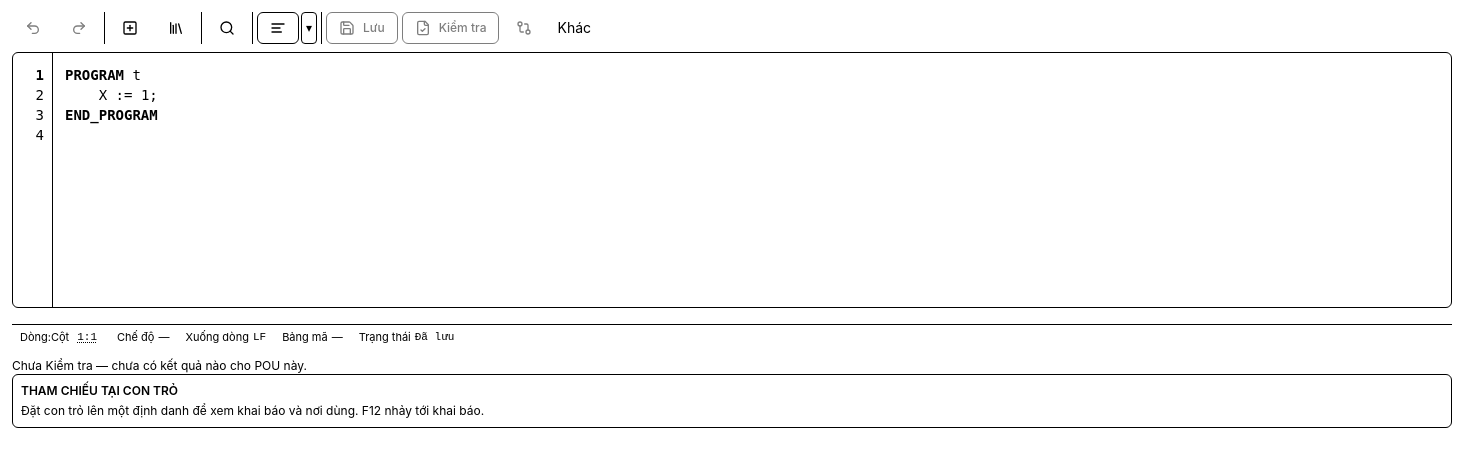
DEV-PROG-019 — nút Định dạng trong trình soạn thảo › nguồn đã đúng style ⇒ nói "đã đúng định dạng", không báo lỗi
Click the button named "Định dạng" at {"x": 278, "y": 28}, box 257,12 -> 299,44
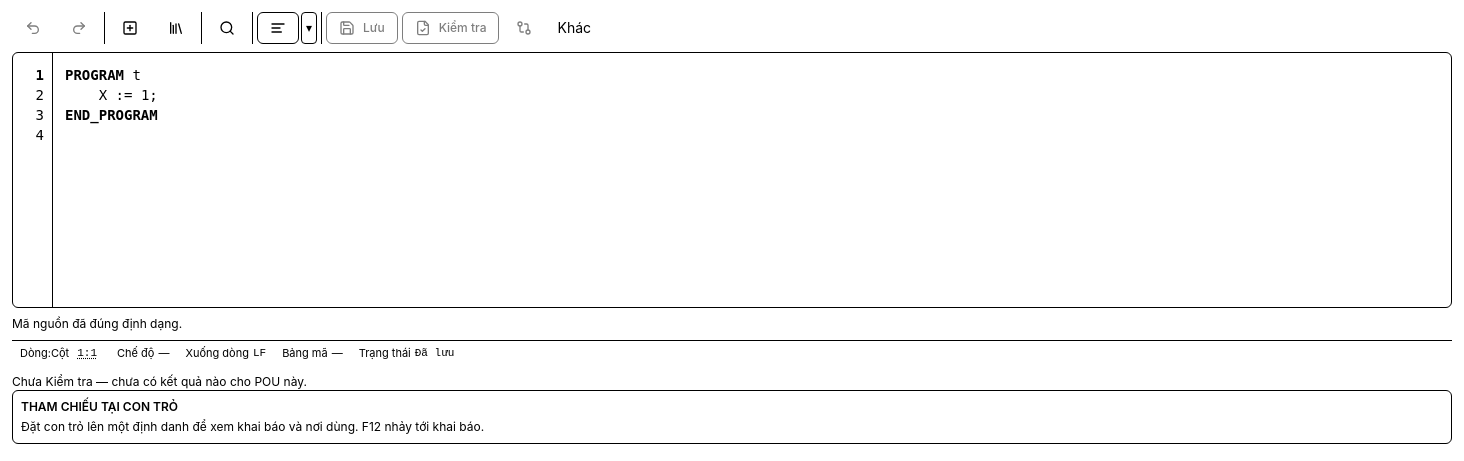
Check: the message reads "Mã nguồn đã đúng định dạng.", box 12,316 -> 182,331
